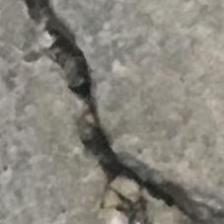Crack: (16, 0, 198, 223)
